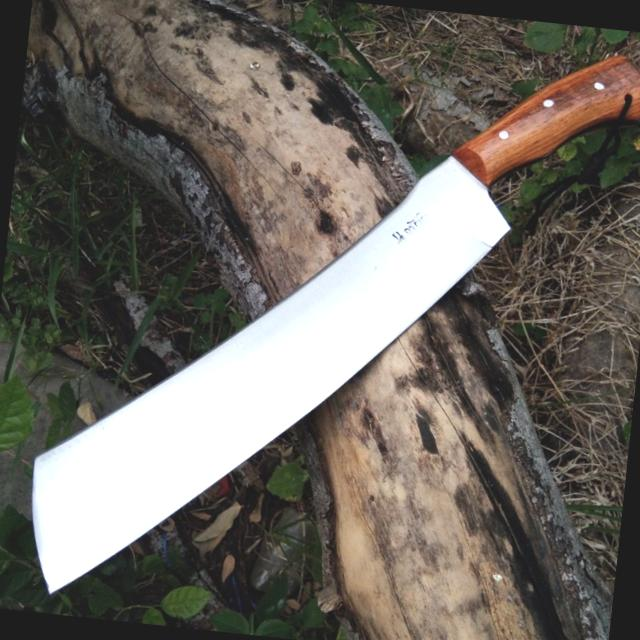eto: (31, 50, 640, 599)
